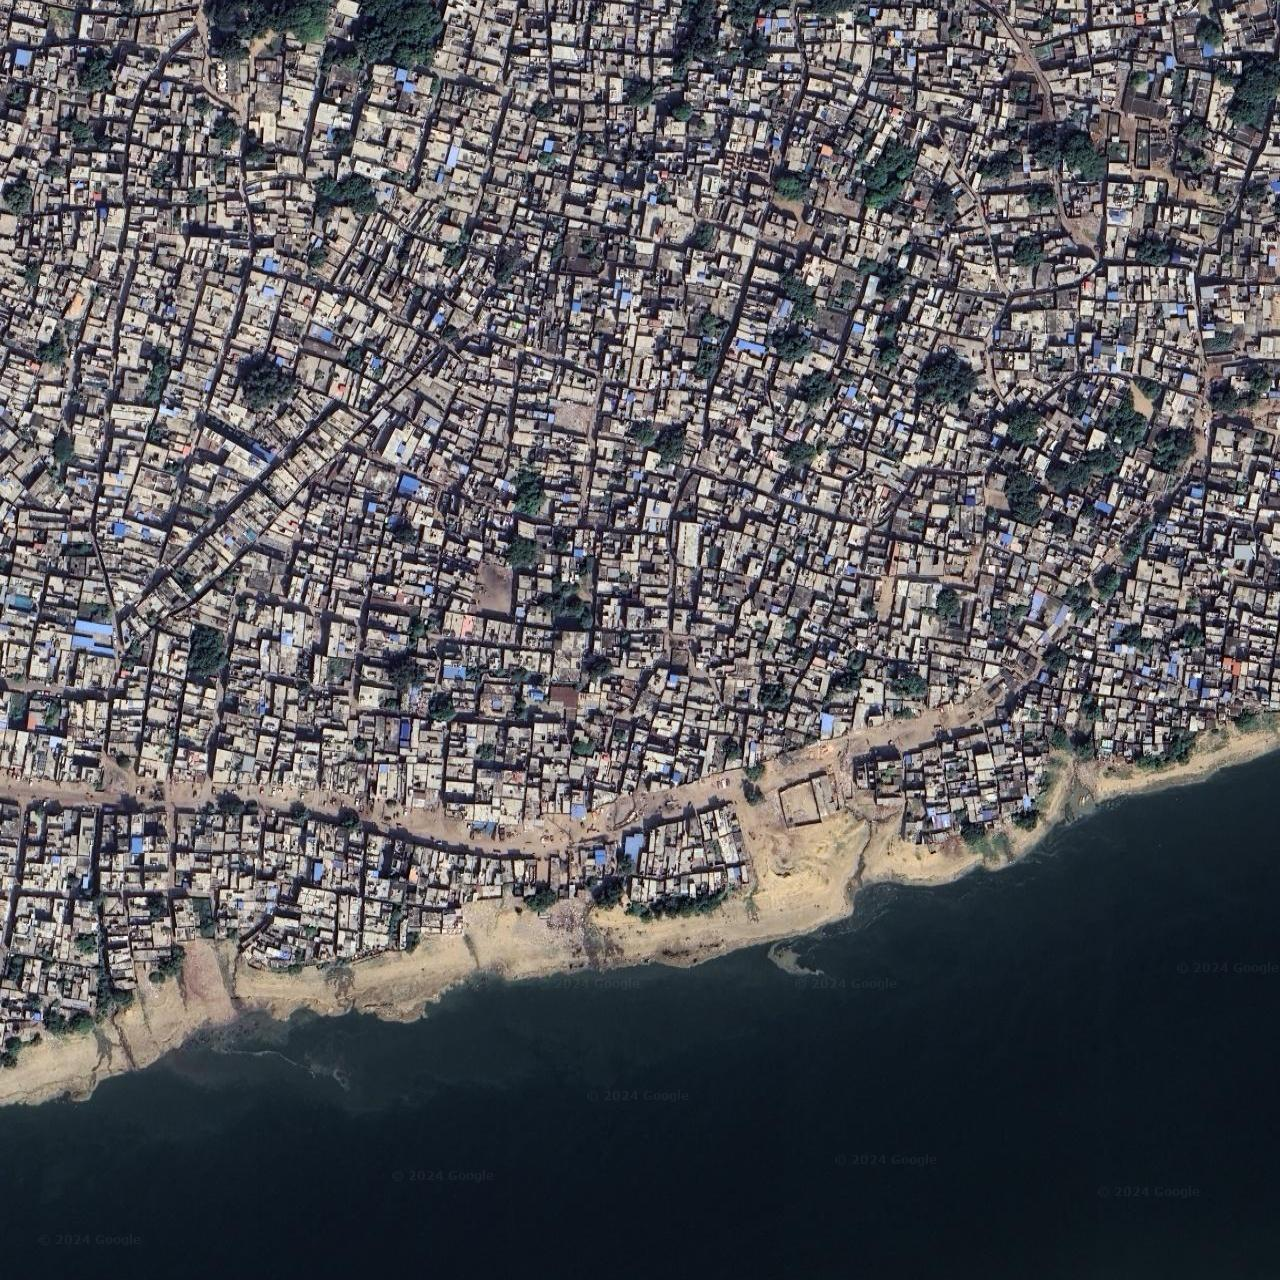greenery: (971, 342, 1280, 538), (782, 238, 1000, 489), (961, 79, 1137, 243), (614, 9, 846, 116), (202, 2, 457, 96), (1171, 2, 1273, 236), (771, 127, 968, 247), (226, 338, 324, 424), (195, 614, 241, 727)
house: (6, 0, 1115, 803), (661, 0, 1231, 358), (5, 798, 755, 1061), (831, 414, 1275, 825), (901, 245, 1268, 429)
water: (4, 755, 1271, 1279)
